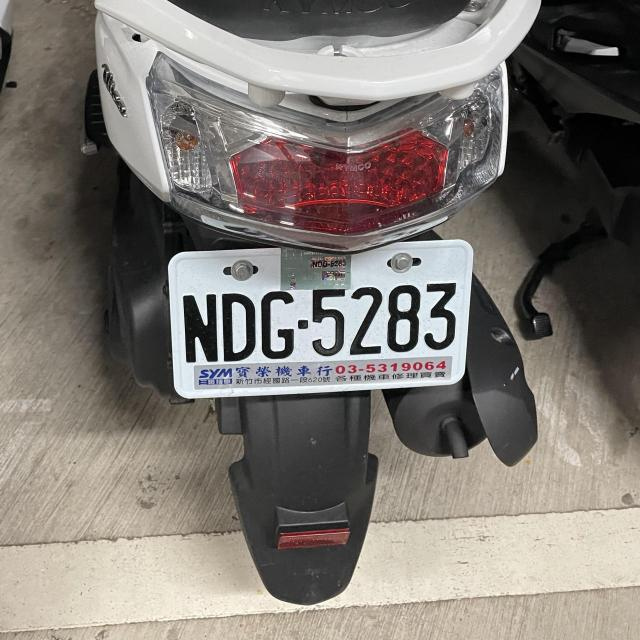W: (165, 235, 476, 399)
